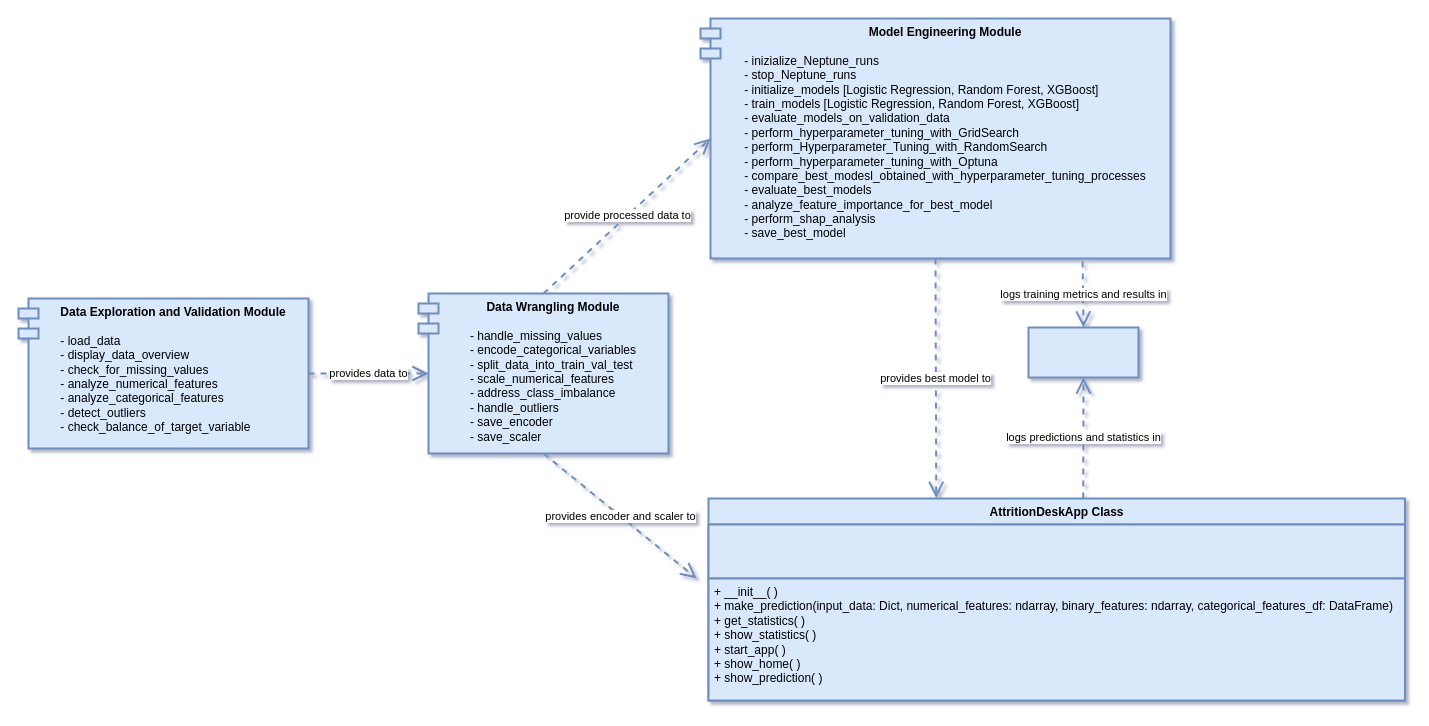
This 1429x726 diagram has some shape labels left out. Each missing label, with the box of its shape:
- model: Model - scaler: sklearn StandardScaler - encoder: sklearn OneHotEncoder: (707, 523, 1406, 579)
Neptune: (1027, 326, 1139, 378)
